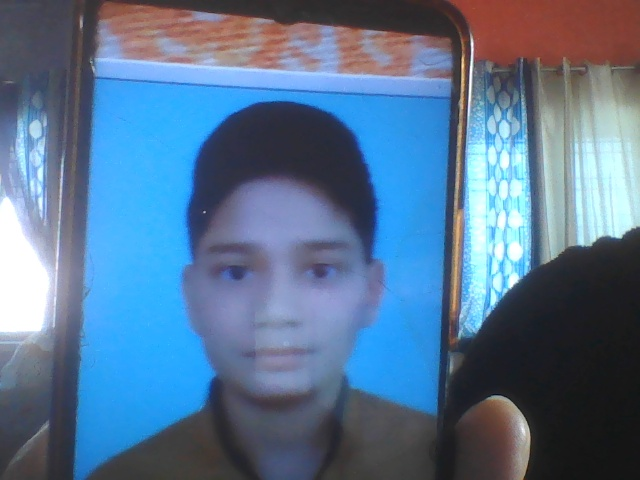fake: (165, 96, 405, 436)
